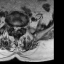CCS_normal: (16, 24, 18, 35)
LFS_stenosis: (20, 23, 23, 30)
LLS_normal: (18, 24, 20, 34)
RFS_severe_stenosis: (11, 23, 13, 30)
RLS_normal: (13, 24, 16, 34)
